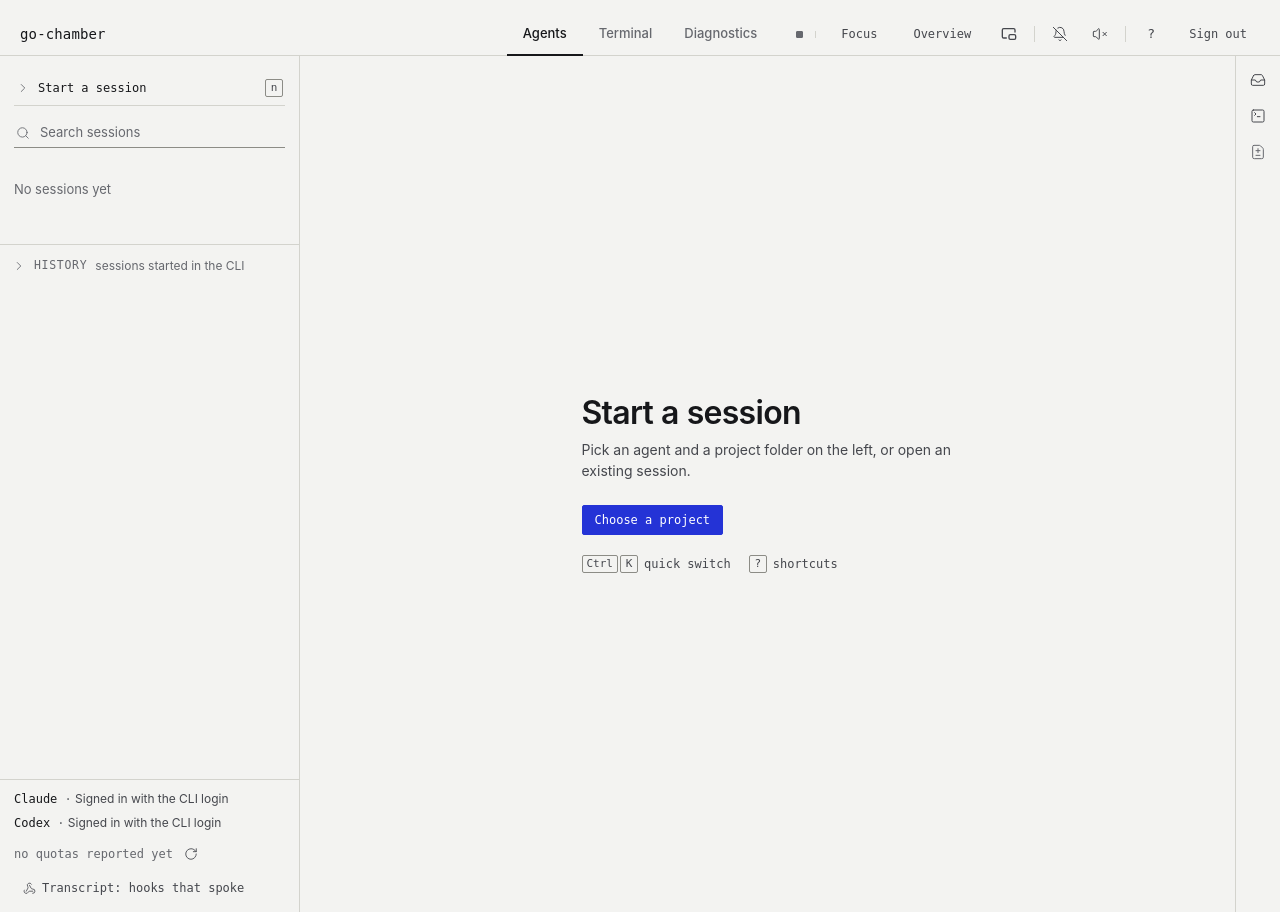
Test: App › toggles the Overview from the top bar, without offering Focus over it
This screenshot has width=1280, height=912.
Expected: the message named "online" is shown, x1=796 y1=30 x2=816 y2=38
Click the button "Overview" at (942, 34), box x1=900 y1=19 x2=984 y2=49
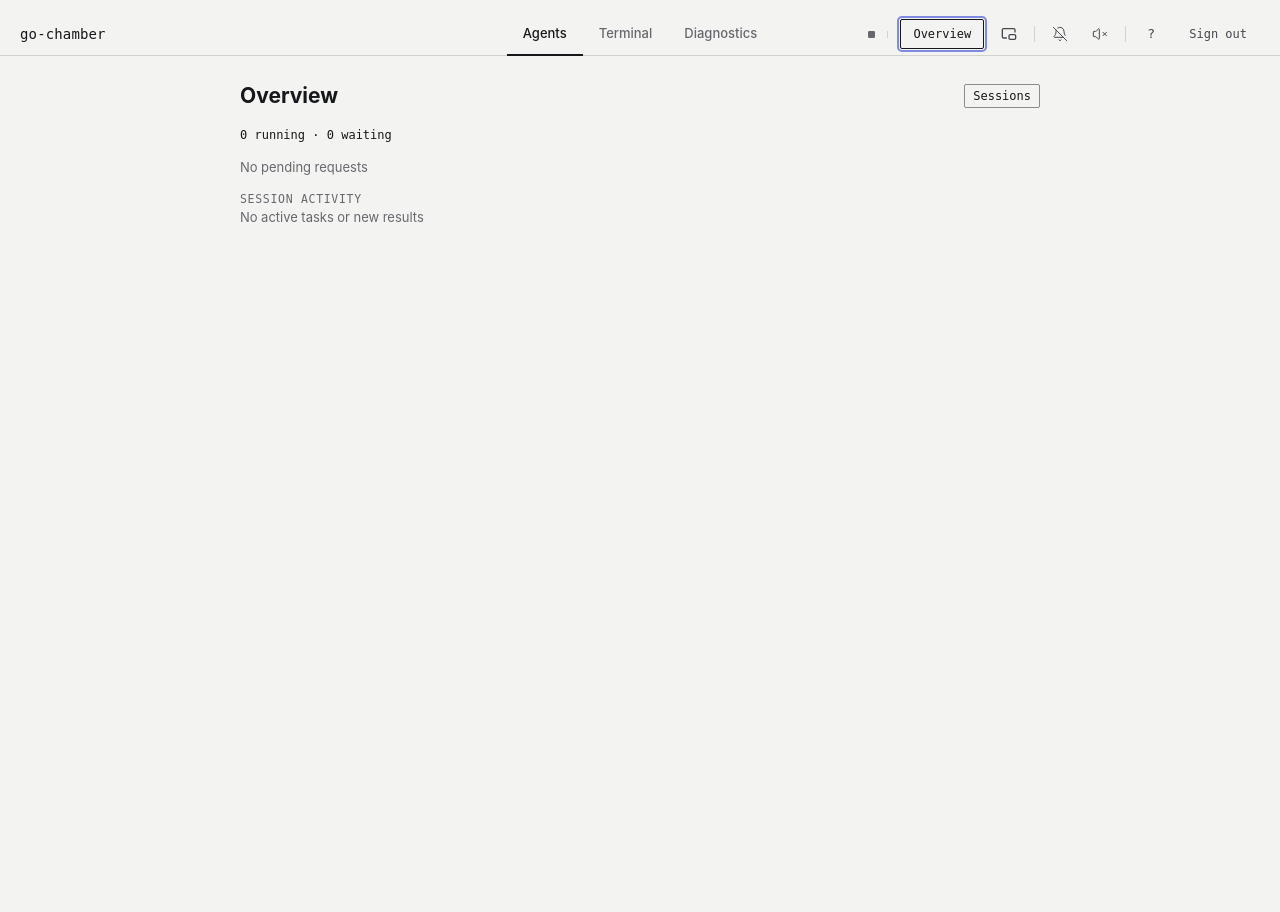
Now the element "Overview" is shown, box x1=240 y1=83 x2=1040 y2=225
Now the button "Focus" is gone
Click the button "Overview" at (942, 34), box x1=900 y1=19 x2=984 y2=49
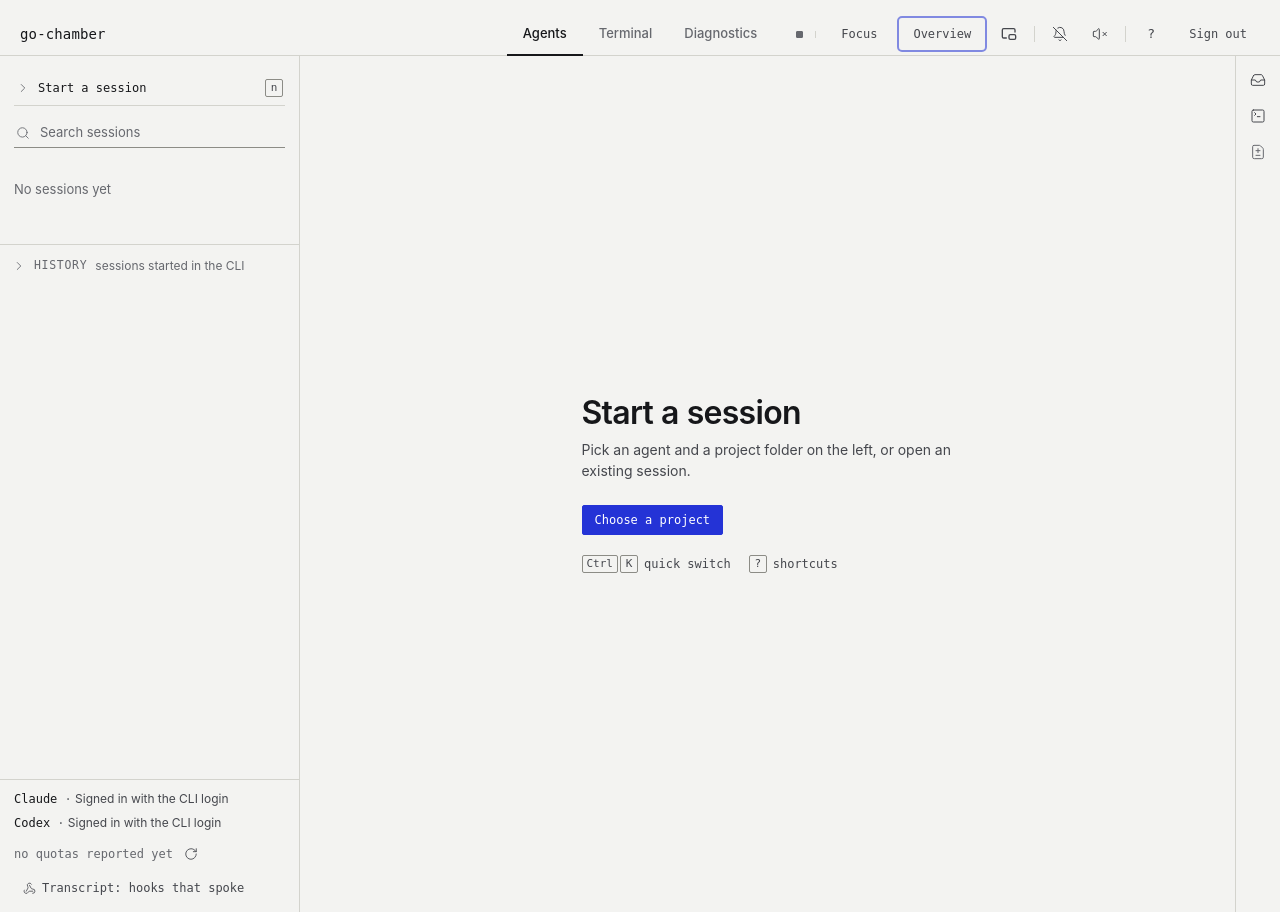
Now the button "Focus" is shown, box x1=828 y1=19 x2=890 y2=49
